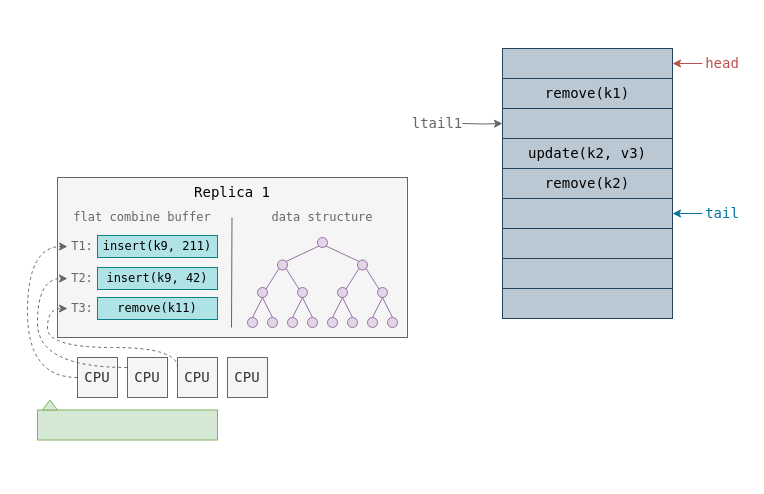
Image size: 764x494. Some labels were removed from this diagram. The centre of each missing label's shape, as x and y in pixels:
"1. threads issue ops" goes at (127,424).
"insert(k1, v1)" goes at (587,63).
"insert(k2, v2)" goes at (587,123).
